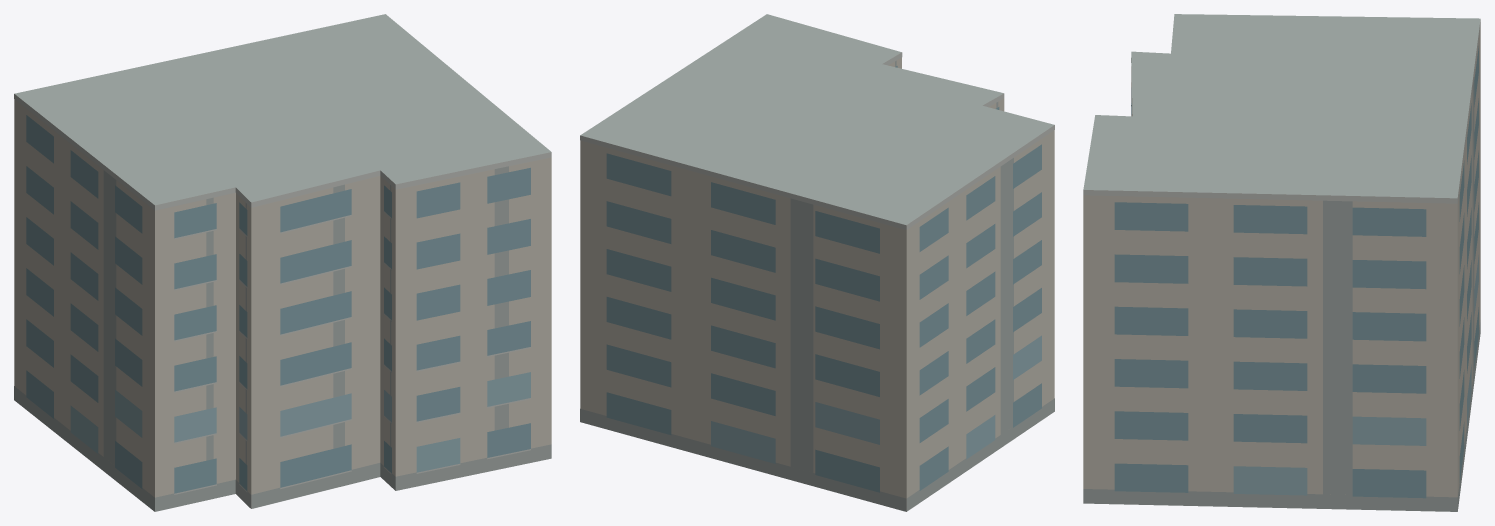
The model's file is survey-upis-32753844.glb.
The picture shows the model from 3 angles, left to right: view 1: azimuth 30°, elevation 25°; view 2: azimuth 150°, elevation 25°; view 3: azimuth 270°, elevation 25°; orthographic projection. The views are drawn at different scales.
Visible parts, largest first — view 1: survey-upis-32753844.tmp; view 2: survey-upis-32753844.tmp; view 3: survey-upis-32753844.tmp.
Boxes of the visible parts, x1=… form: survey-upis-32753844.tmp: x1=14, y1=14, x2=551, y2=511; survey-upis-32753844.tmp: x1=580, y1=14, x2=1054, y2=511; survey-upis-32753844.tmp: x1=1083, y1=14, x2=1480, y2=511.
Bounding box in the file's own units: 17.73 × 14.06 × 16.15.
